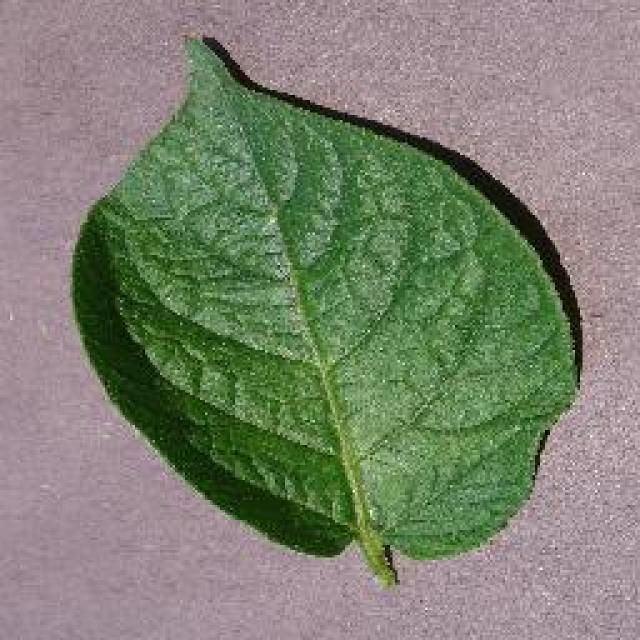Potato: (68, 30, 582, 588)
